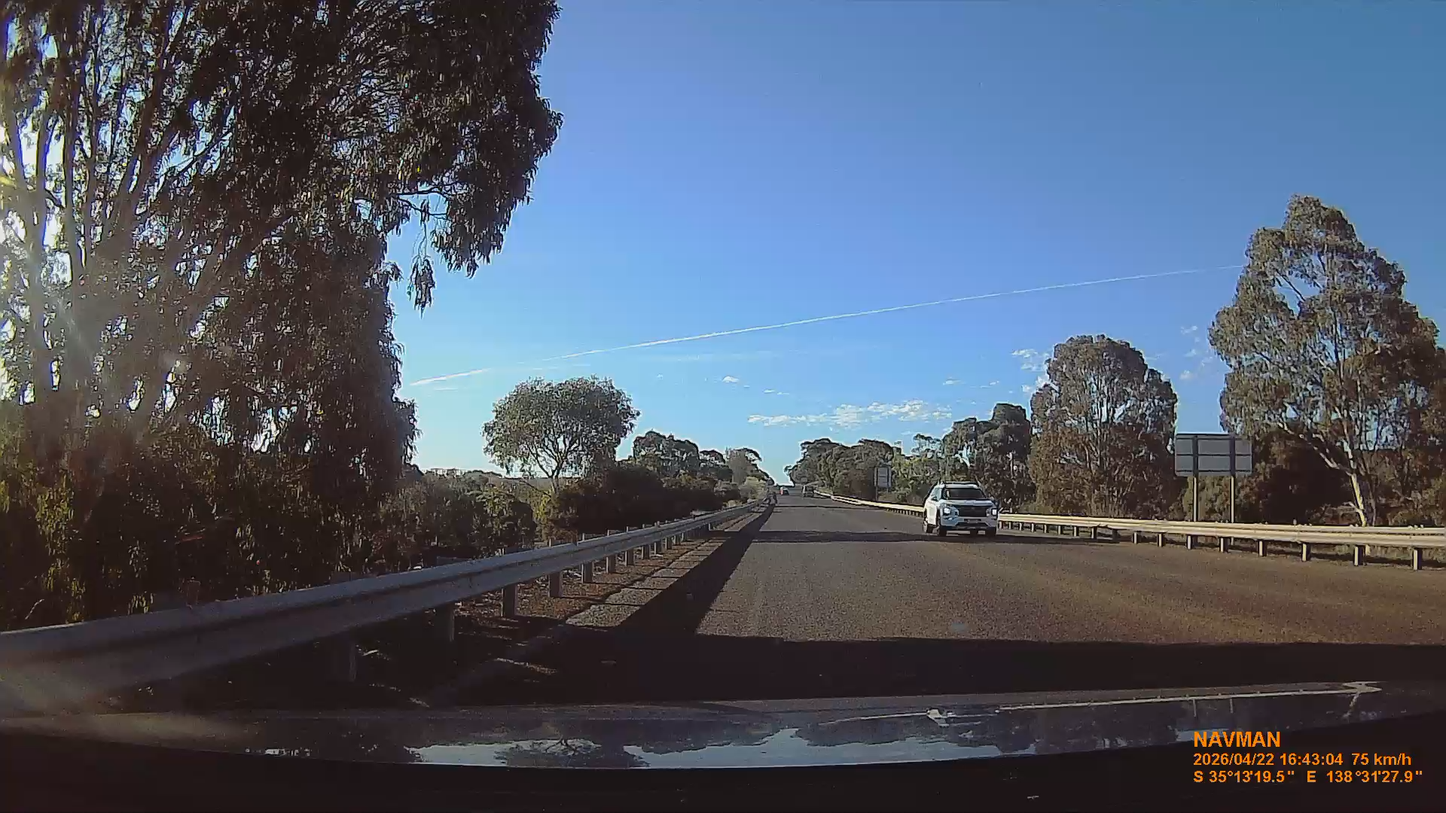road barriers: (0, 502, 763, 715), (1000, 513, 1445, 571)
